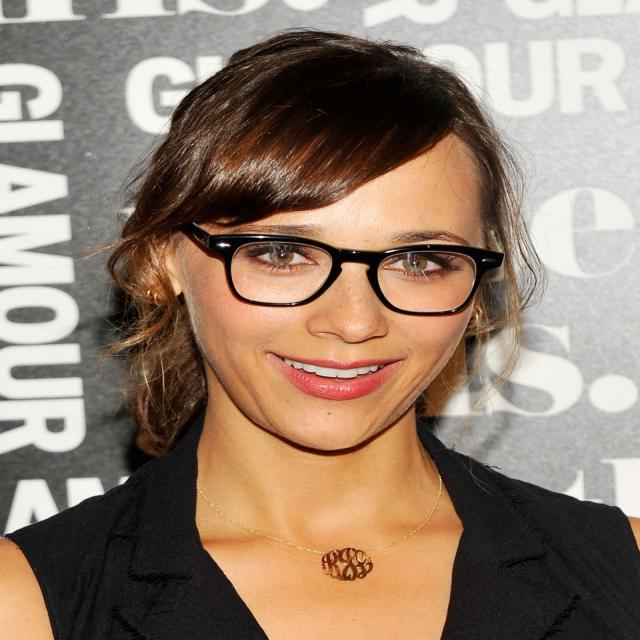Glasses: (186, 222, 501, 320)
